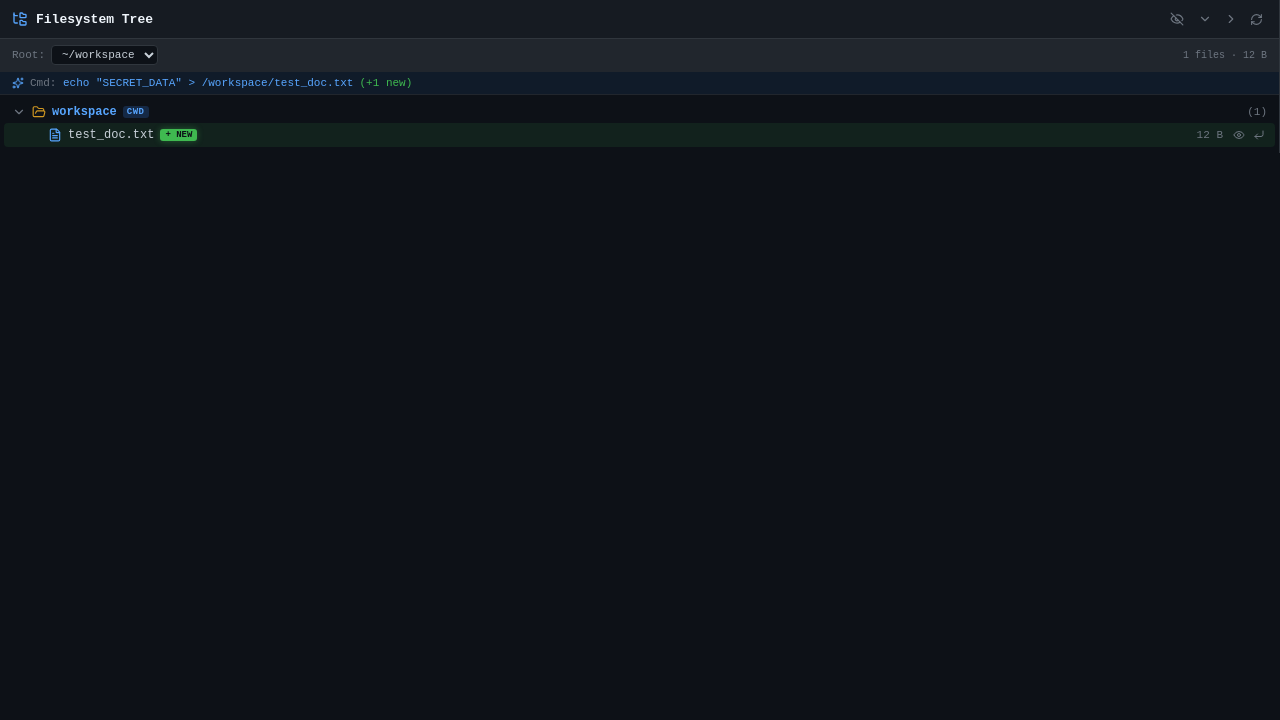
Test: FilesystemInspectorPanel Component › opens FileInspectorModal when clicking on a file item
What coordinates should you click on to do the following:
click the list item "test_doc.txt + NEW 12 B"
I would click on:
 (640, 135)
Its box is [4,123,1275,147].
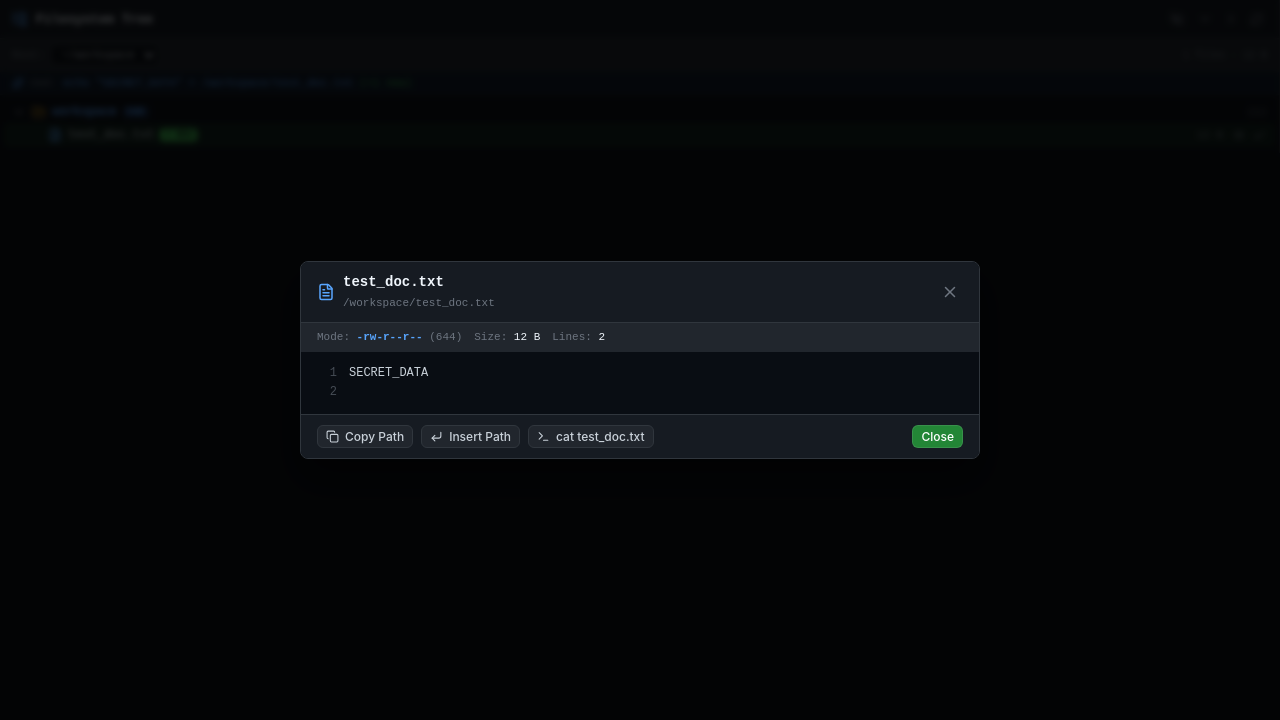
Expected: the dialog is shown
Expected: the dialog shows "test_doc.txt", [343,274,444,290]
Expected: the dialog shows "SECRET_DATA", [349,366,428,380]
What coordinates should you click on to do the following:
click the button "Close"
I would click on:
 (938, 437)
Its box is [912,425,963,448].
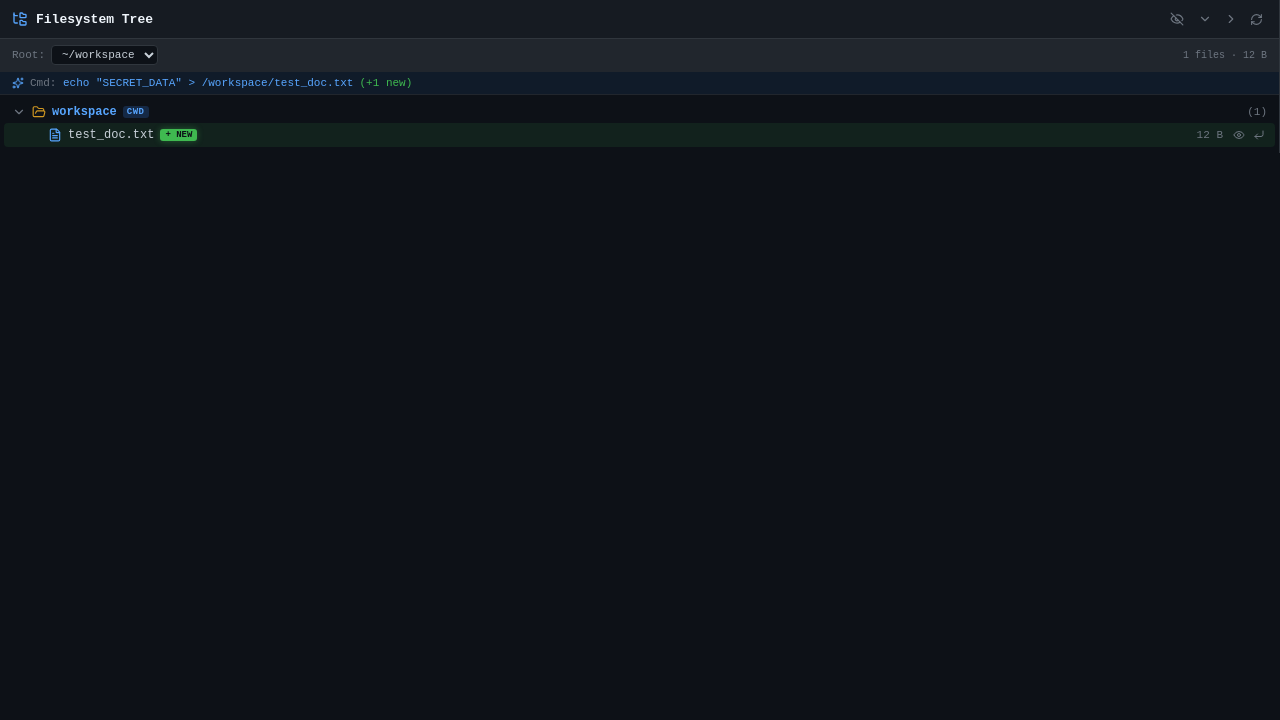
Expected: the dialog is gone
